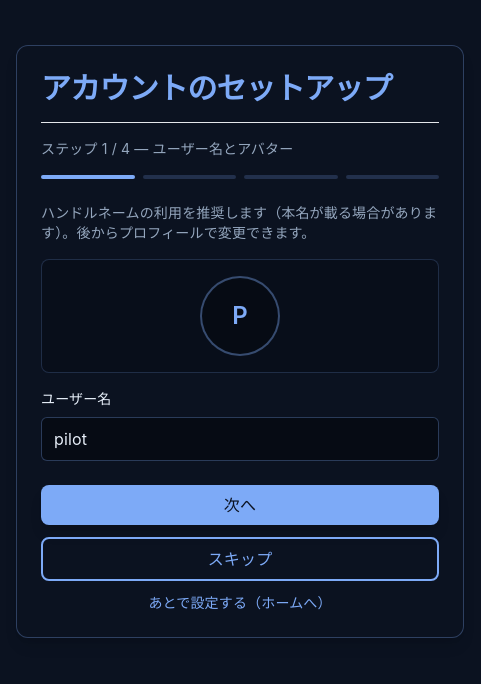
Scenario: WelcomeSetupPage › ランキング参加はデフォルトで ON
What coordinates should you click on to do the following:
click the button "スキップ"
I would click on:
 (240, 558)
Its box is [41,536,439,580].
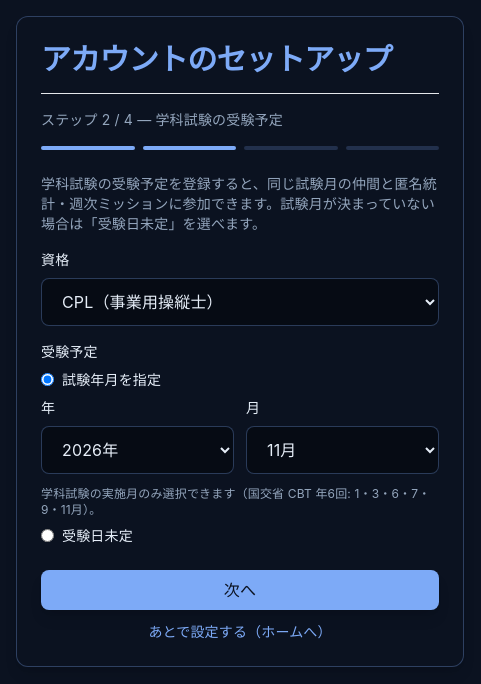
What coordinates should you click on to do the following:
click the radio button labelled "受験日未定"
I would click on:
 (48, 536)
Its box is [41,529,54,542].
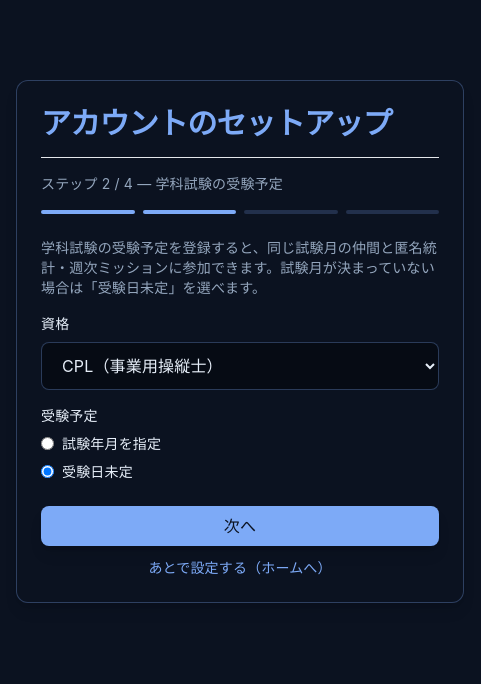
What coordinates should you click on to do the following:
click the button "次へ"
I would click on:
 (240, 526)
Its box is [41,506,439,546].
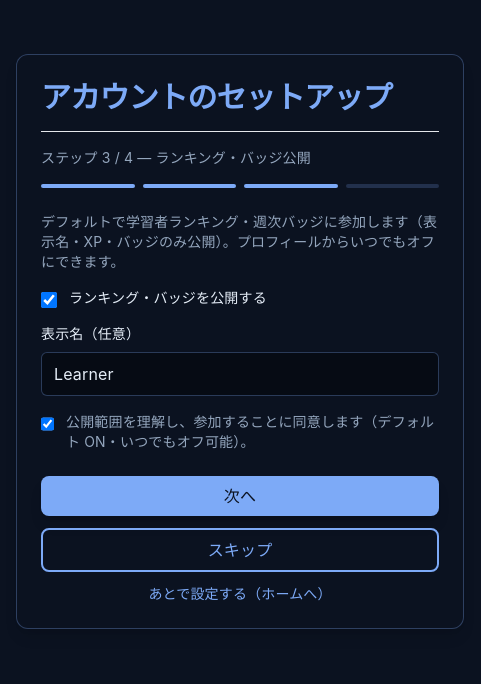
Expected: the checkbox labelled "ランキング・バッジを公開する" is checked, [41,292,57,308]
